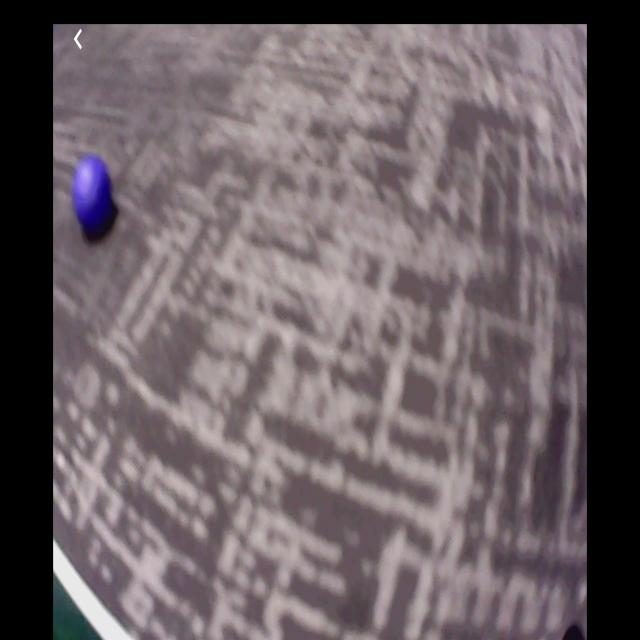ball: (71, 157, 116, 231)
